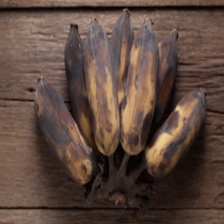banana: (18, 16, 207, 164)
